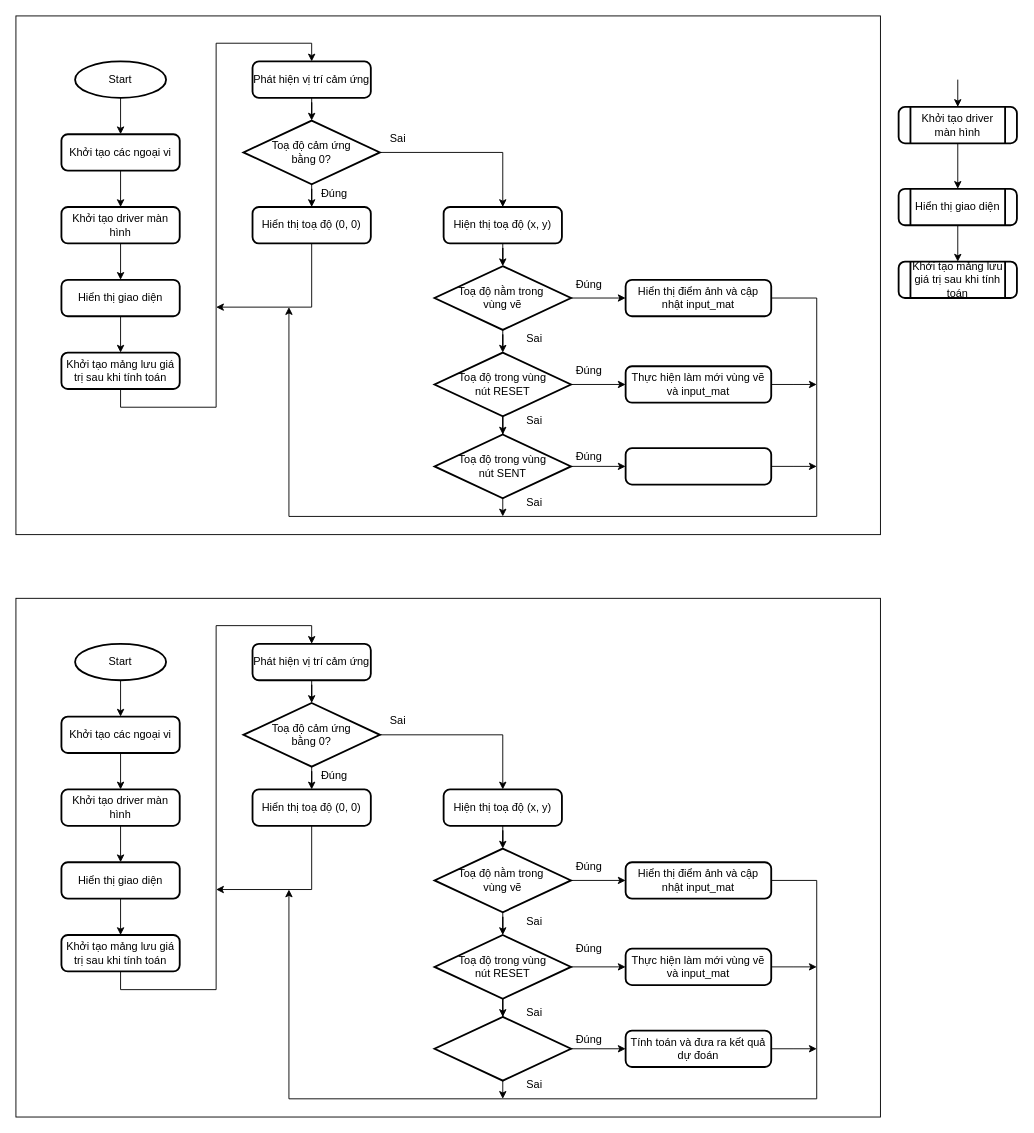
The diagram is 1034 pixels wide and 1133 high, and some of its shapes have lost their labels. Each missing label, with the centre of its shape:
Gửi input_mat tới máy tính bằng UART: (698,466)
Toạ độ trong vùng nút CNN: (502,1048)
